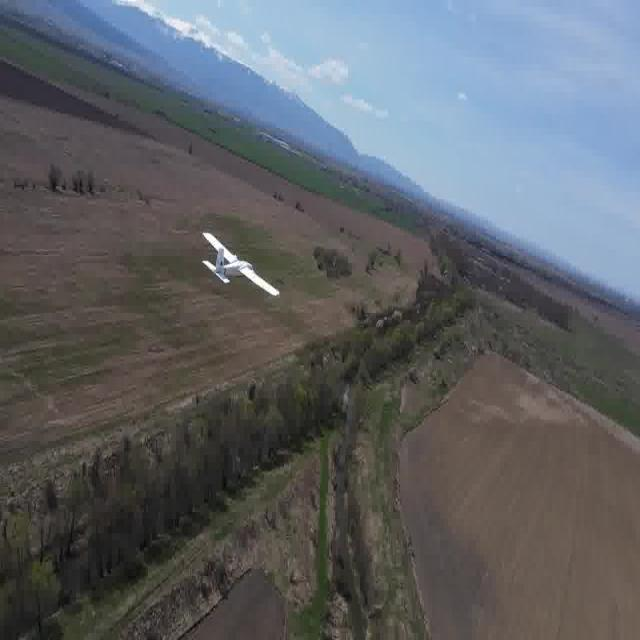iha: (230, 241, 256, 275)
